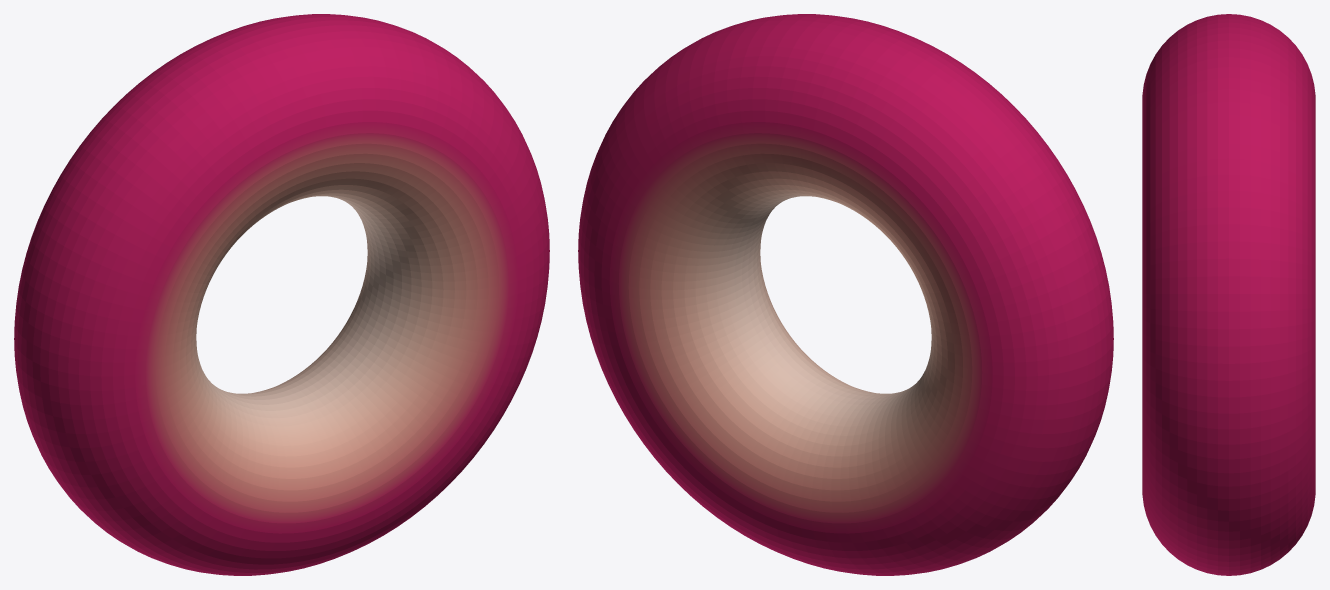
3 renders of one model, left to right at view 1: azimuth 30°, elevation 25°; view 2: azimuth 150°, elevation 25°; view 3: azimuth 270°, elevation 25°, orthographic. The views are drawn at different scales.
Parts seen in each view (by area): view 1: world; view 2: world; view 3: world.
Boxes of the visible parts, x1,y1,x2,y2 form: world: [14, 14, 549, 575]; world: [578, 14, 1113, 575]; world: [1142, 14, 1315, 575].
Size of the model in its own units: 28.93 by 28.93 by 8.92.
